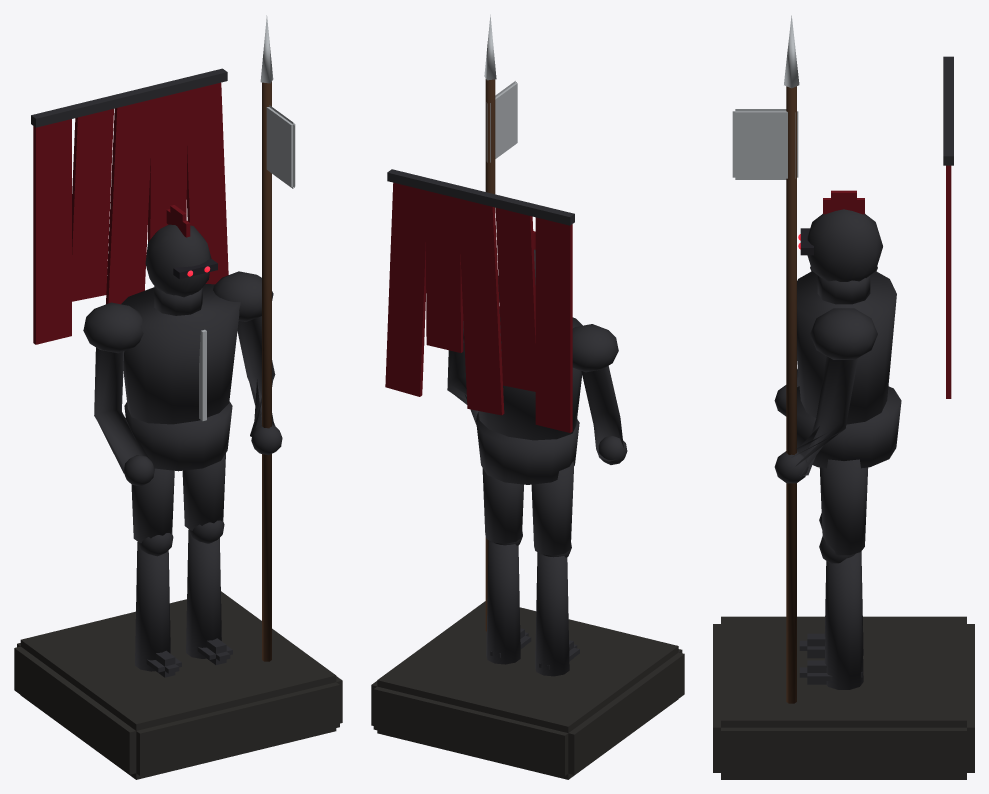
Rendered from gothic-armor.glb.
3 renders of one model, left to right at view 1: azimuth 30°, elevation 25°; view 2: azimuth 150°, elevation 25°; view 3: azimuth 270°, elevation 25°, orthographic. The views are drawn at different scales.
Visible parts, largest first — view 1: Model Mesh; view 2: Model Mesh; view 3: Model Mesh.
Part boxes in pixels (x1,y1,x2,y2): Model Mesh: (14,15,342,779); Model Mesh: (371,14,684,779); Model Mesh: (713,15,974,779).
Size of the model in its own units: 1 by 3.15 by 1.
